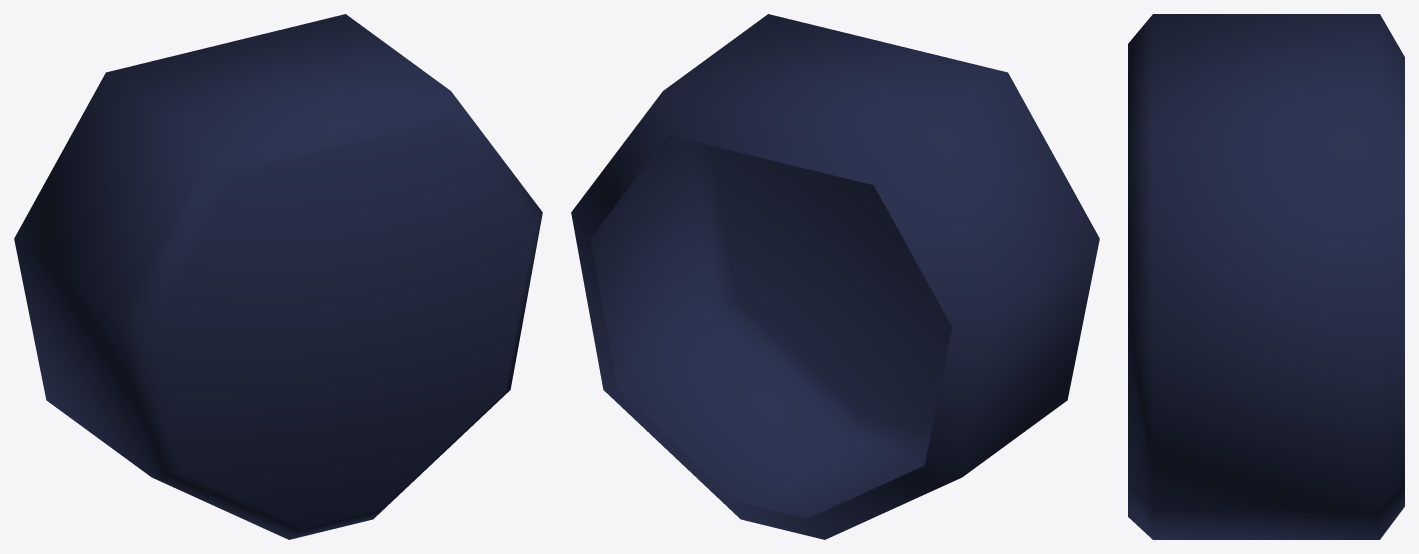
3 views of the same model, side by side, from view 1: azimuth 30°, elevation 25°; view 2: azimuth 150°, elevation 25°; view 3: azimuth 270°, elevation 25° (orthographic). The views are drawn at different scales.
Bounding box in the file's own units: 0.139 × 0.1284 × 0.073.
